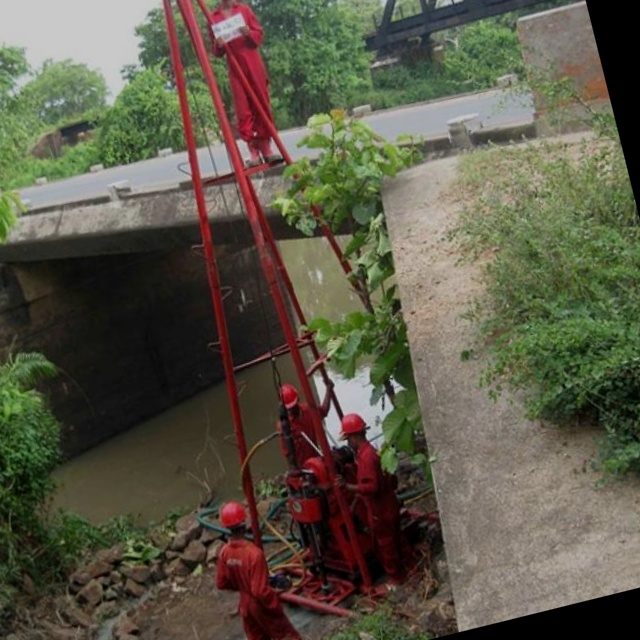Con_Casco: (214, 497, 251, 541), (210, 0, 242, 4)
